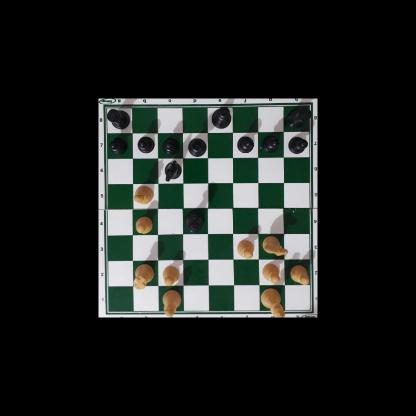black-bishop: (186, 137, 207, 157)
black-king: (211, 106, 232, 129)
black-knight: (163, 160, 182, 182)
black-pawn: (288, 135, 307, 154), (261, 134, 280, 152), (236, 134, 254, 153), (109, 136, 127, 153), (137, 135, 154, 153), (162, 136, 179, 154)
black-queen: (184, 210, 204, 233)
black-rook: (105, 106, 131, 129), (287, 106, 312, 127)
white-bishop: (162, 290, 181, 318), (133, 185, 154, 205)
white-king: (260, 287, 286, 318)
white-knight: (261, 235, 289, 257)
white-pawn: (262, 262, 282, 284), (290, 264, 310, 284), (162, 265, 180, 286), (134, 215, 153, 234), (236, 239, 254, 259)
white-rook: (132, 263, 154, 290)
